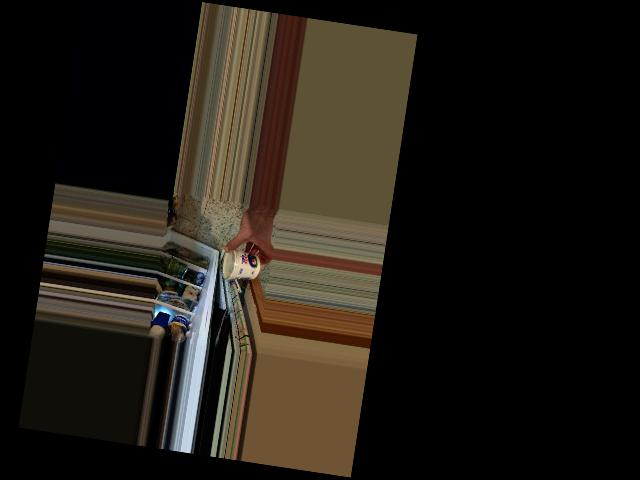cotage: (222, 246, 259, 281)
